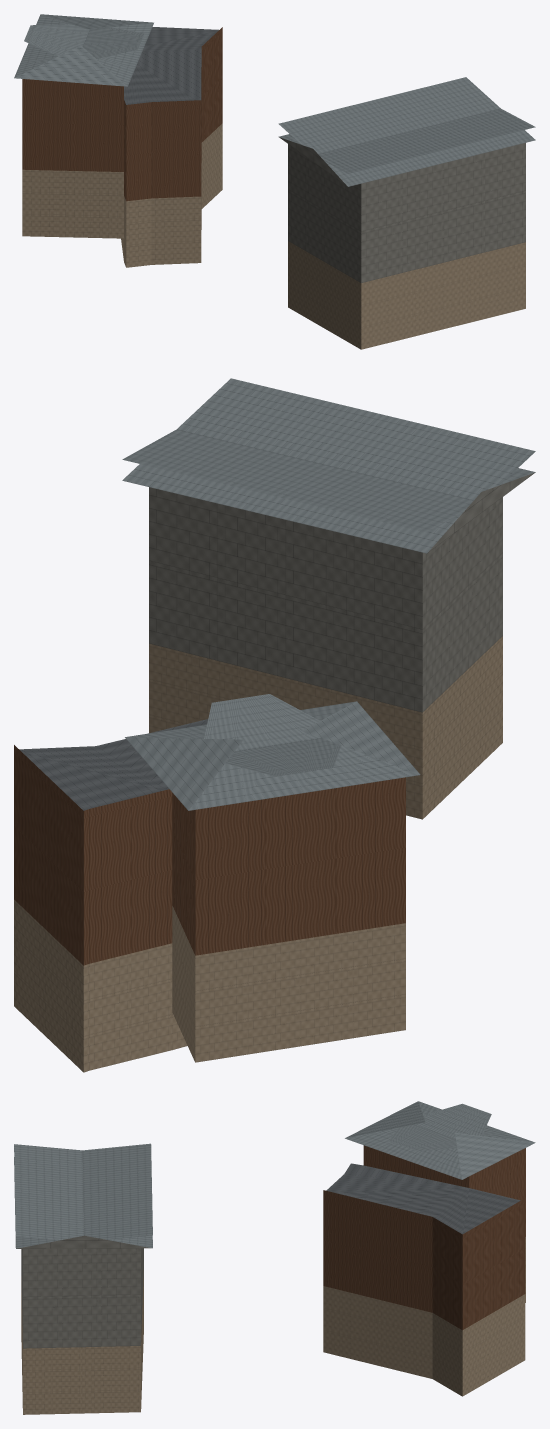
The model's file is bld_c27_-54_556.gltf.
The picture shows the model from 3 angles, top to bottom: view 1: azimuth 30°, elevation 25°; view 2: azimuth 150°, elevation 25°; view 3: azimuth 270°, elevation 25°; orthographic projection. The views are drawn at different scales.
Visible parts, largest first — view 1: bld_c27_-54_556; view 2: bld_c27_-54_556; view 3: bld_c27_-54_556.
Part boxes in pixels (x1,y1,x2,y2): bld_c27_-54_556: [14, 14, 535, 349]; bld_c27_-54_556: [14, 378, 535, 1072]; bld_c27_-54_556: [14, 1101, 535, 1414].
Size of the model in its own units: 25.67 by 15.7 by 36.39.
Materials: 7 (7 with a texture image).
